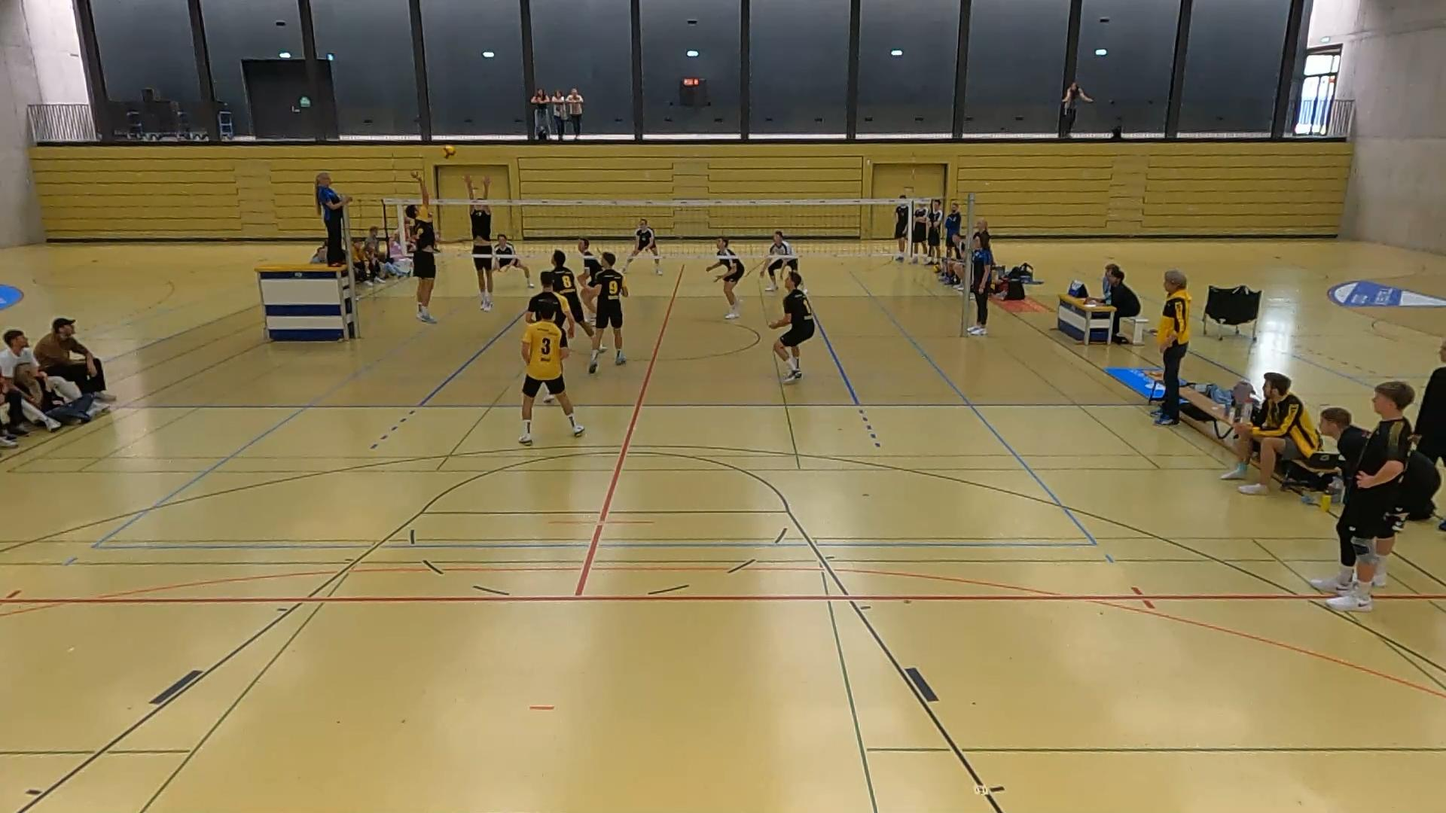Attack: (400, 197, 453, 325)
Block: (462, 169, 502, 316)
Player: (519, 297, 584, 445), (770, 270, 814, 382), (588, 251, 628, 373), (524, 271, 575, 347), (551, 250, 593, 337), (705, 238, 746, 318), (493, 233, 534, 286), (624, 218, 660, 275), (765, 230, 798, 291), (577, 238, 601, 312)
ball: (441, 142, 457, 162)
